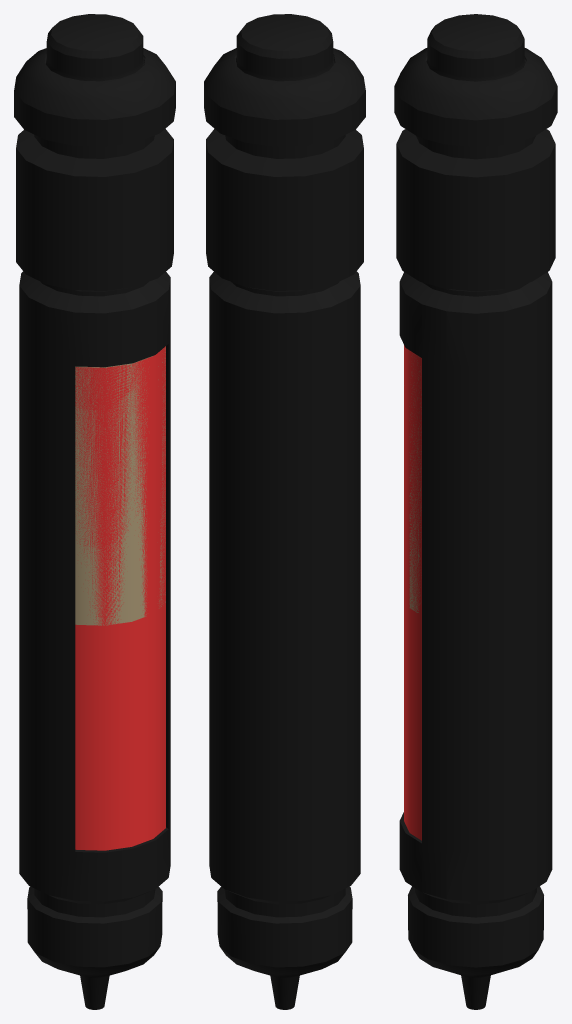
The model's file is piston.fbx.
3 views of the same model, side by side, from view 1: azimuth 30°, elevation 25°; view 2: azimuth 150°, elevation 25°; view 3: azimuth 270°, elevation 25° (orthographic).
Visible parts, largest first — view 1: Cylinder001, Cylinder002, Cylinder003; view 2: Cylinder001; view 3: Cylinder001, Cylinder002, Cylinder003.
Part boxes in pixels (bbox=[...]): Cylinder001: bbox=[14, 14, 175, 1009]; Cylinder002: bbox=[75, 346, 165, 850]; Cylinder003: bbox=[75, 347, 165, 625]; Cylinder001: bbox=[204, 14, 365, 1009]; Cylinder001: bbox=[394, 14, 557, 1009]; Cylinder002: bbox=[404, 345, 421, 840]; Cylinder003: bbox=[409, 356, 421, 612].
Bounding box in the file's own units: 1.02 × 6.69 × 1.02.
